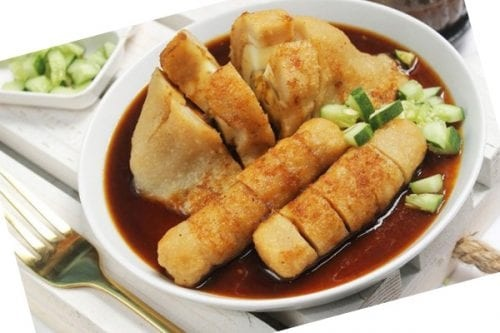pempek: (105, 14, 467, 289)
